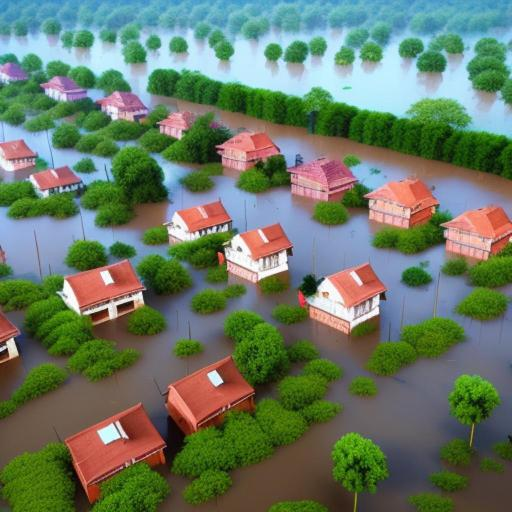flood: (0, 160, 512, 512), (0, 156, 446, 465), (0, 28, 512, 217), (159, 280, 512, 512), (120, 64, 512, 216), (216, 110, 512, 215), (335, 60, 512, 137), (0, 208, 82, 281), (439, 276, 512, 352), (0, 329, 67, 400), (53, 148, 112, 184), (3, 124, 49, 162), (1, 170, 30, 181)
house: (63, 401, 170, 503), (159, 353, 259, 437), (57, 257, 147, 331), (306, 259, 388, 335), (363, 173, 439, 232), (221, 223, 293, 284), (440, 205, 512, 263), (286, 156, 360, 206), (162, 198, 234, 245), (214, 129, 280, 173), (96, 91, 148, 126), (26, 166, 86, 196), (154, 108, 200, 144), (41, 72, 87, 106), (0, 138, 38, 174), (0, 305, 20, 366), (0, 62, 30, 85)
